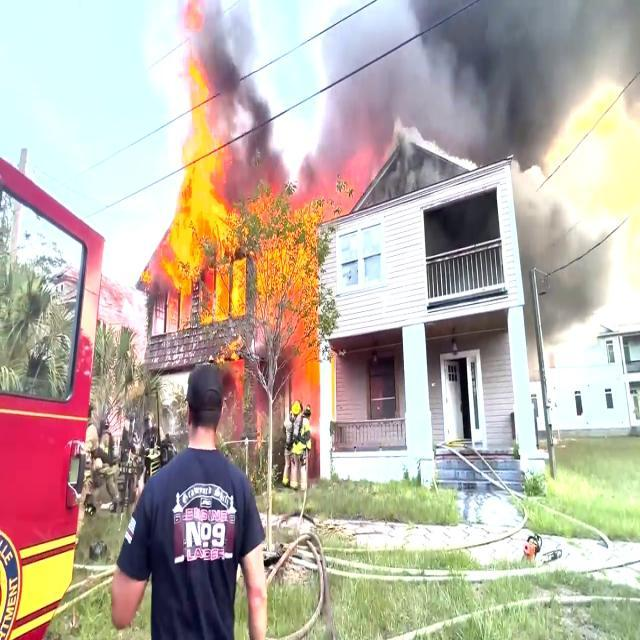Fire: (220, 207, 314, 417), (150, 71, 218, 278)
Smoke: (347, 0, 640, 133), (524, 155, 596, 313)
